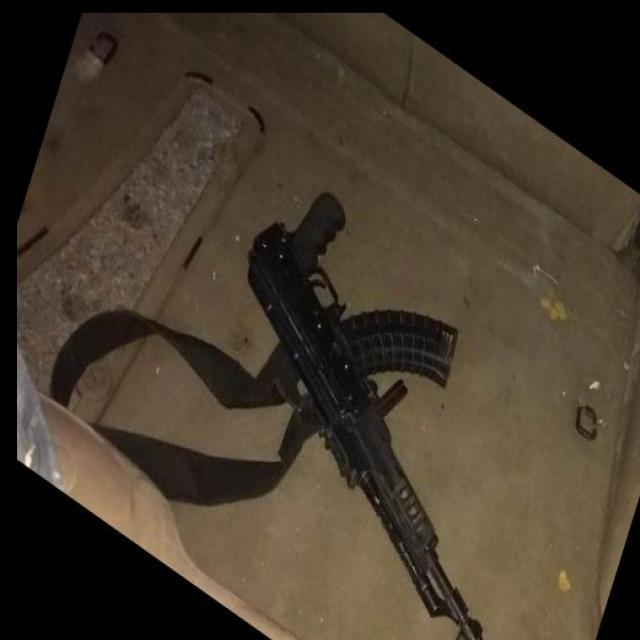weapon: (246, 192, 482, 640)
